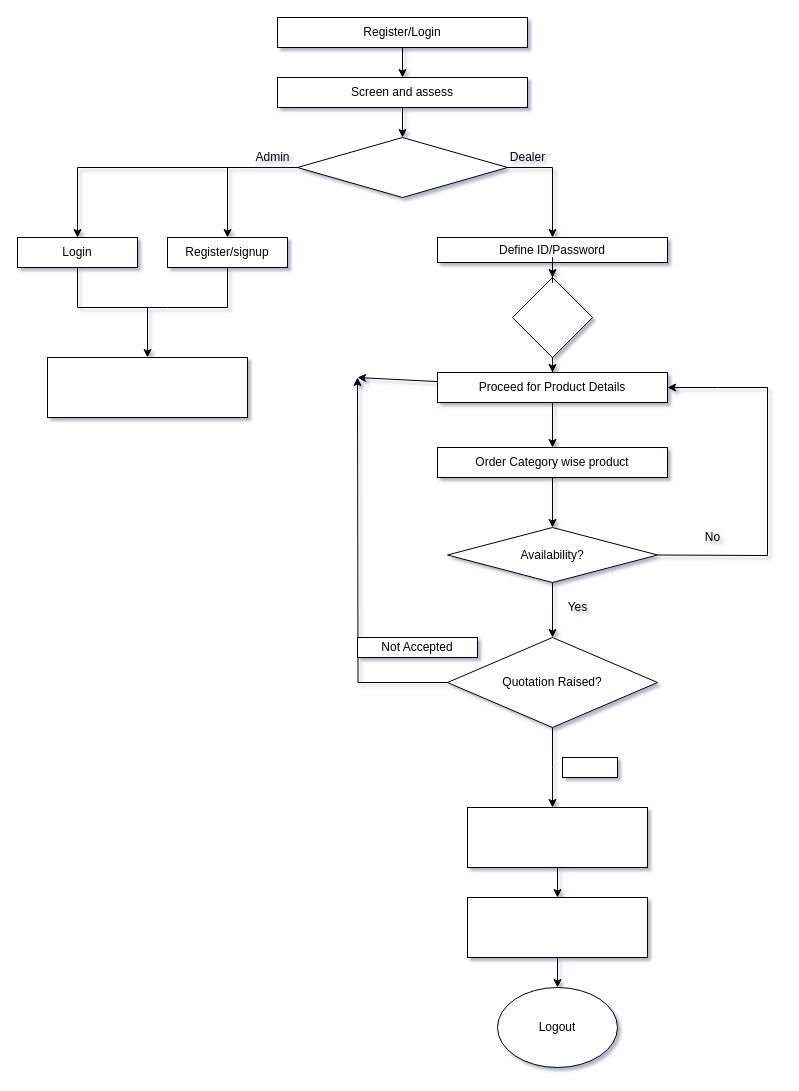
The diagram is 799 pixels wide and 1091 high, and some of its shapes have lost their labels. Here are the shapes that lost their labels. From the top down, the centre of each, then its label:
At point 402,167: "Act to resolve?".
At point 552,317: "Checking for Validation".
At point 147,387: "Integrates with Dealer,products,order,comapny, reports systems details.".
At point 590,767: "accepted".
At point 557,837: "Order Placed.".
At point 557,927: "Feedback and Ratings".
